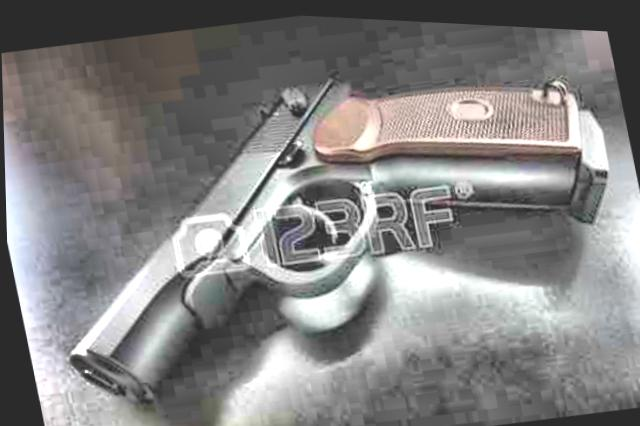pistol: (17, 12, 640, 426)
